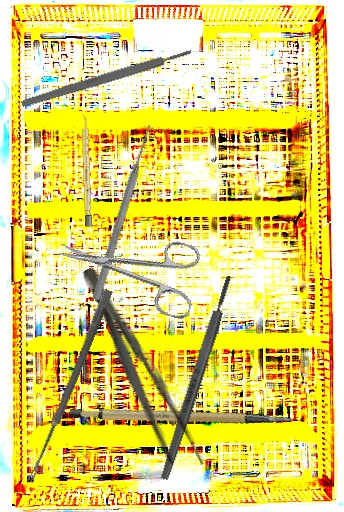Dressing Forceps: (70, 261, 210, 478)
Iris Scissors: (50, 210, 208, 322)
Pusher: (90, 122, 156, 302)
Scalpel Handle: (67, 378, 294, 460), (157, 274, 236, 481), (20, 47, 193, 109), (81, 113, 92, 228)
Surgical Spoon: (26, 288, 113, 484)
